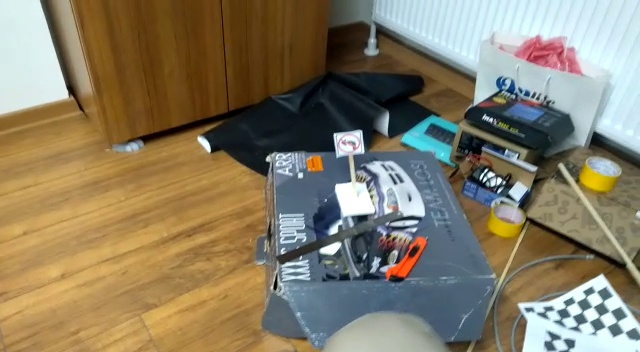sola_donulmez: (336, 128, 362, 156)
